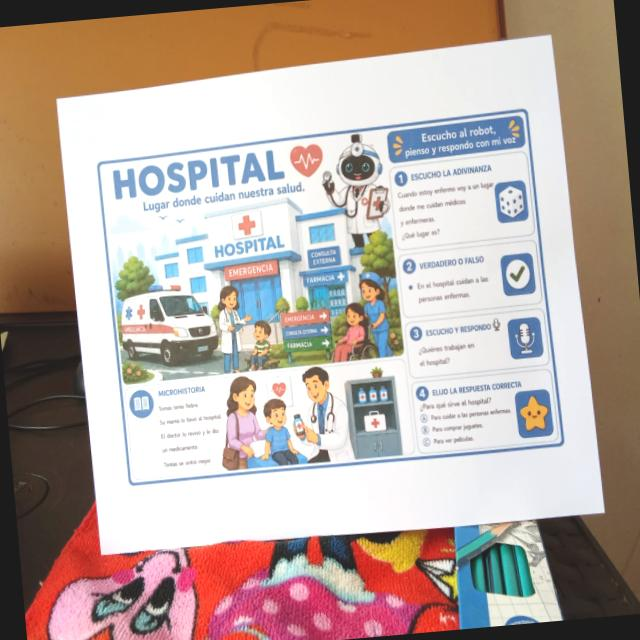hospital: (90, 102, 568, 490)
